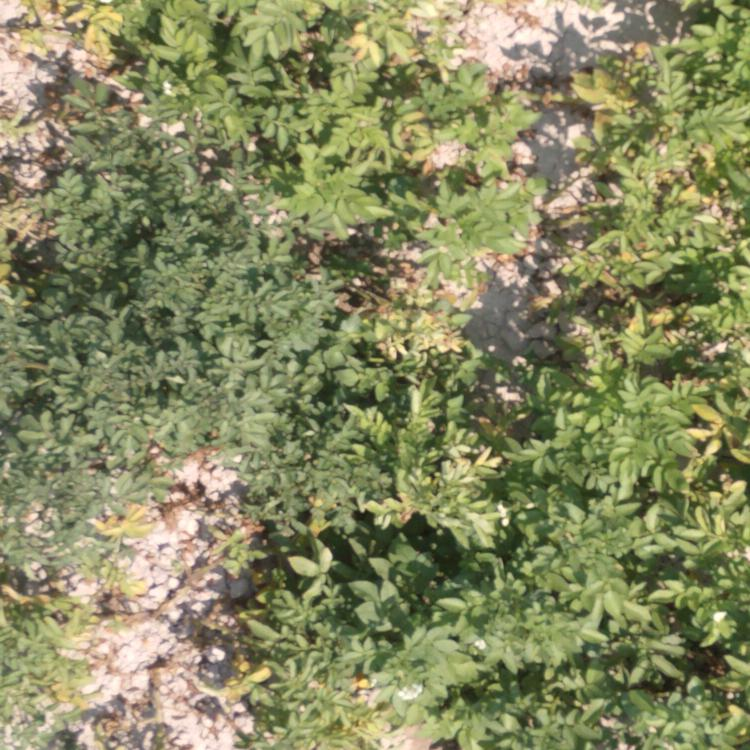healthy: (430, 499, 746, 750), (1, 75, 176, 457), (192, 172, 297, 481), (318, 373, 518, 489), (193, 73, 245, 167)
stressed: (537, 1, 750, 312), (256, 1, 530, 174), (236, 495, 421, 750), (1, 480, 164, 750), (312, 180, 509, 367), (541, 329, 750, 502), (10, 1, 247, 67)
